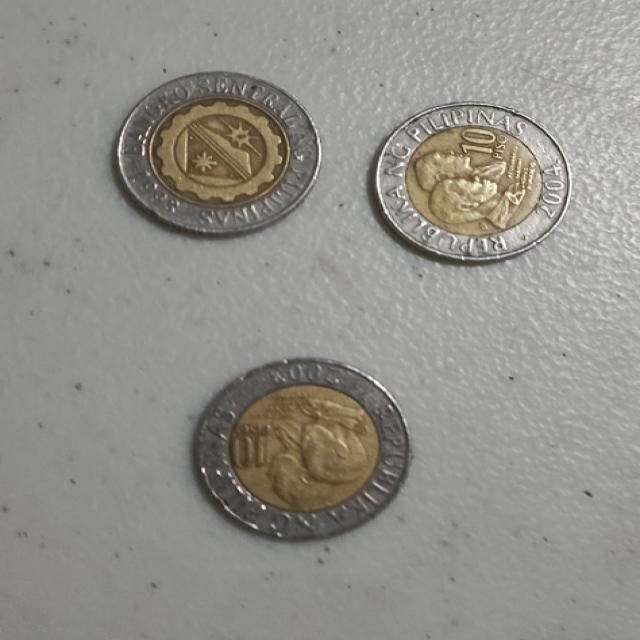10_peso: (198, 359, 409, 537), (119, 71, 320, 234), (375, 103, 570, 261)
